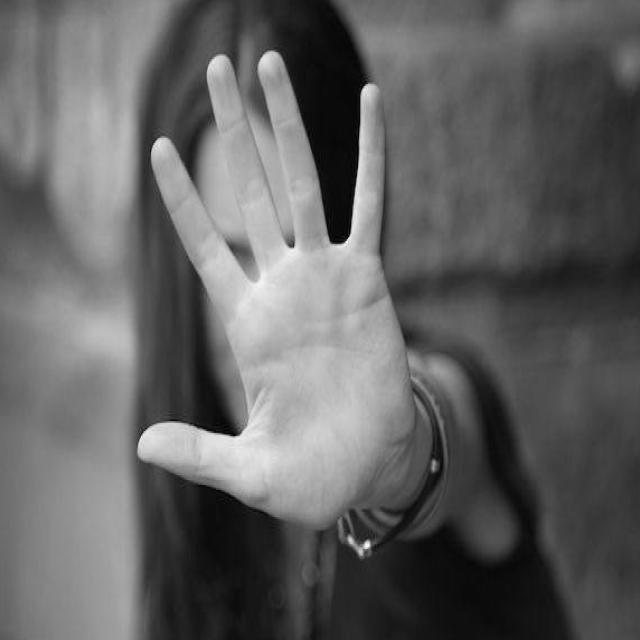stop: (133, 43, 422, 542)
